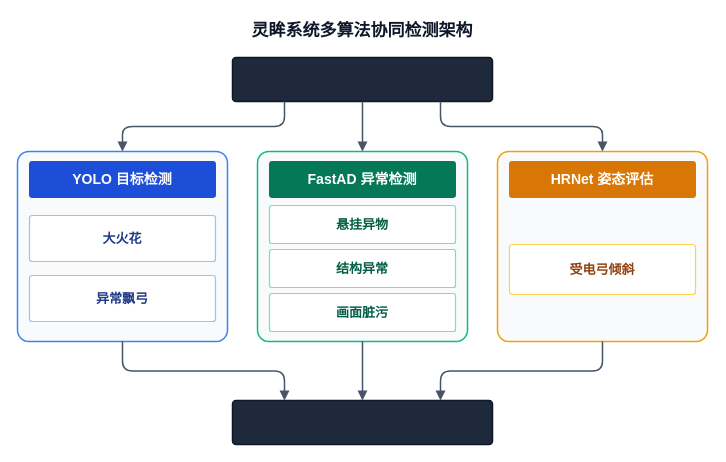
The diagram is 726 pixels wide and 462 high, and some of its shapes have lost their labels. The shapes that lost their labels are listed below. From the top down, each one's box as (x1, y1, x2, y2) in pixels, then its label:
(231, 56, 493, 102): 受电弓视频
(231, 399, 493, 445): 故障检测结果
